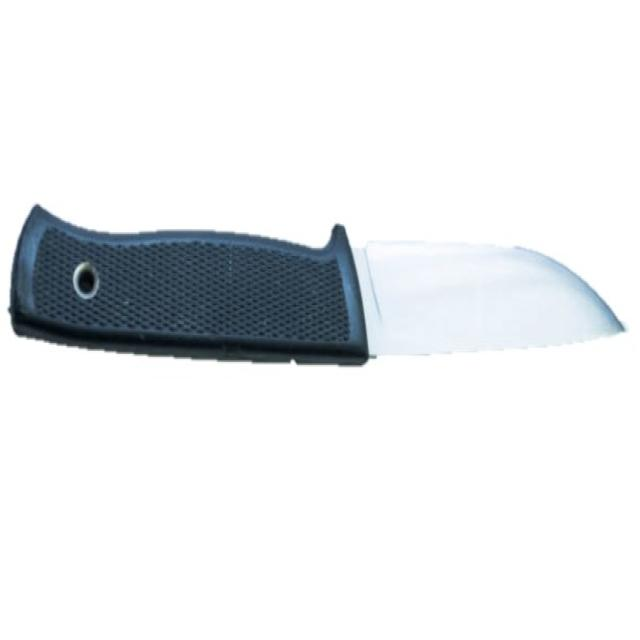knife: (3, 156, 633, 406)
